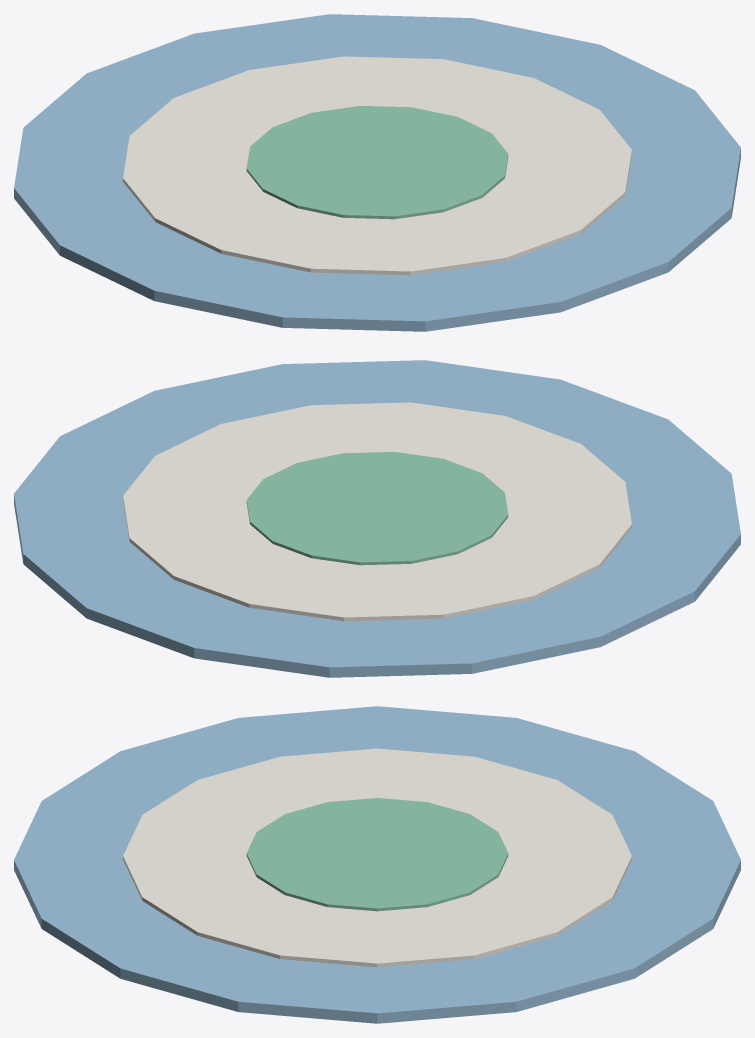
The model's file is SM_LPI_Kids_Rug_01.fbx.
3 views of the same model, one above another, from view 1: azimuth 30°, elevation 25°; view 2: azimuth 150°, elevation 25°; view 3: azimuth 270°, elevation 25° (orthographic).
Parts seen in each view (by area): view 1: SM_LPI_Kids_Rug_01; view 2: SM_LPI_Kids_Rug_01; view 3: SM_LPI_Kids_Rug_01.
Boxes of the visible parts, x1,y1,x2,y2 form: SM_LPI_Kids_Rug_01: (14,14,740,331); SM_LPI_Kids_Rug_01: (14,360,740,677); SM_LPI_Kids_Rug_01: (14,706,740,1023).
Size of the model in its own units: 1.4 by 0.036 by 1.4.
